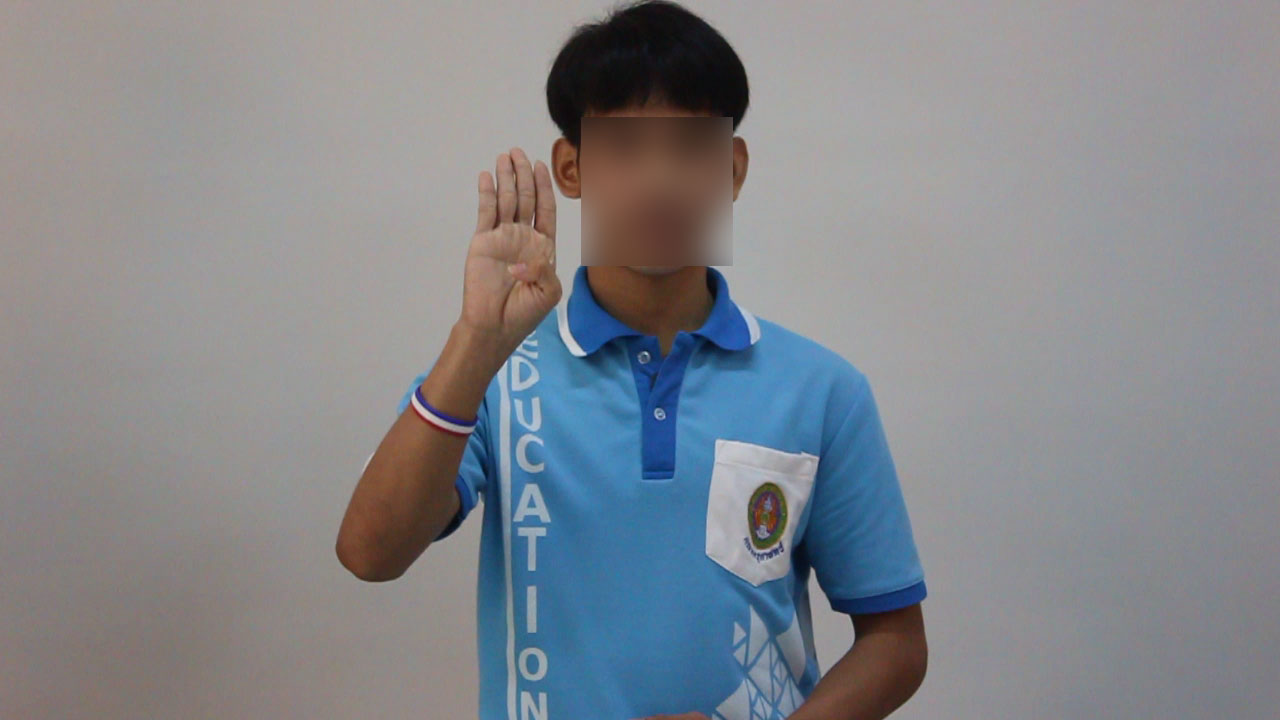bor: (439, 126, 573, 369)
